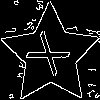X: (25, 30, 79, 84)
